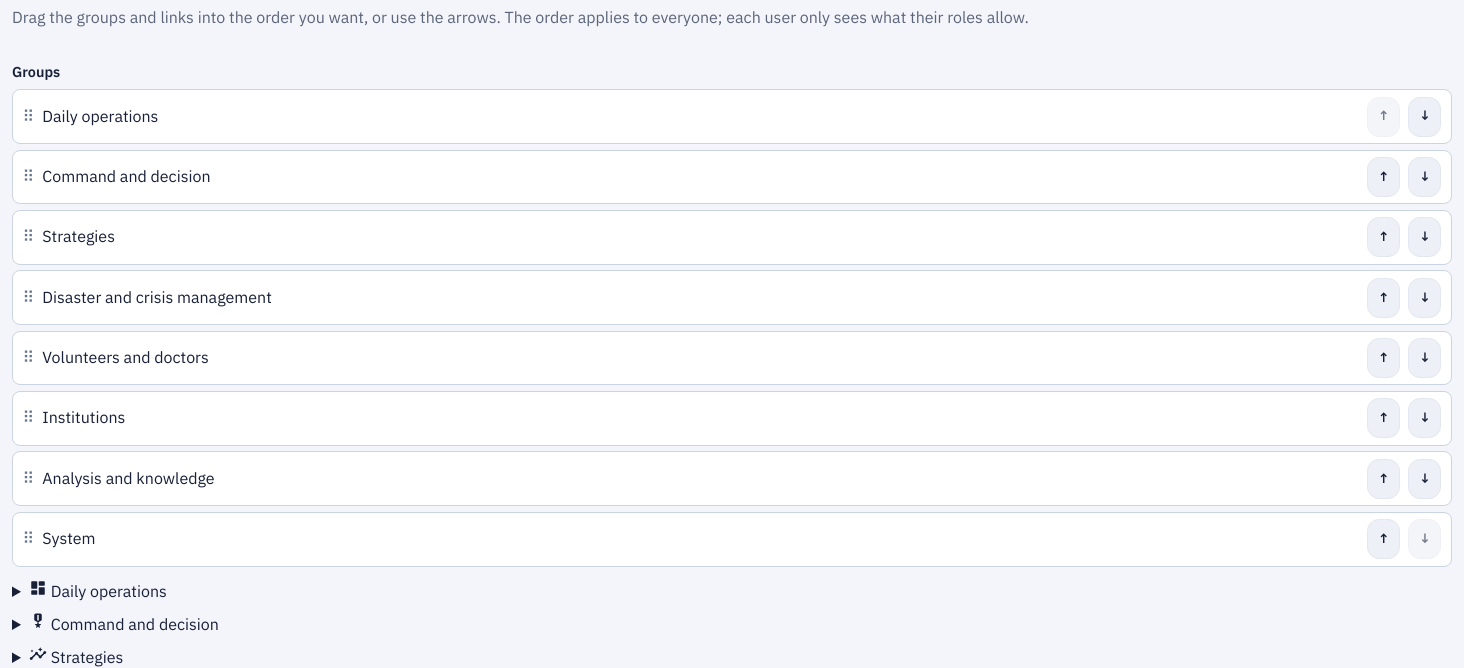
Test: the order of the menu › the system administrator moves a group and saves the order with a reason
Click the 1st button "↓": x=1425, y=117 [1408,97,1441,137]
(page scrolled)
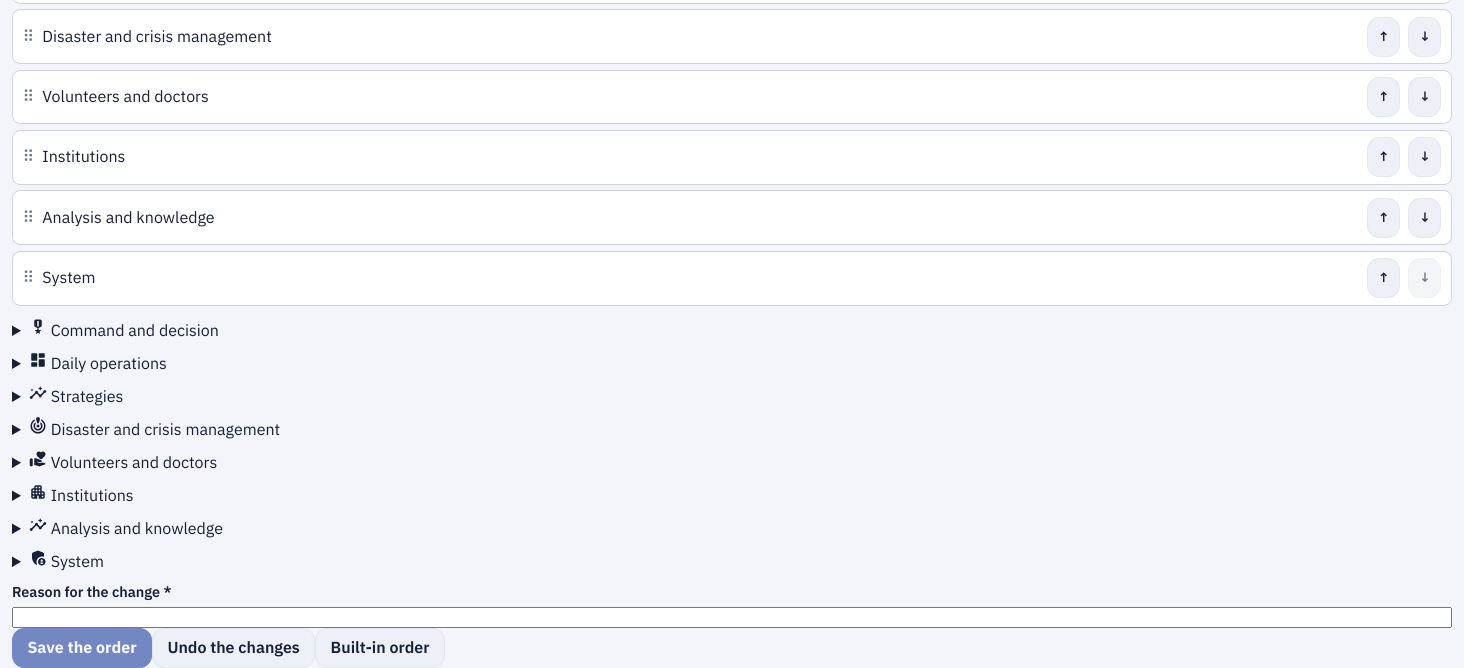
Expected: the button "Save the order" is disabled, [12,628,152,667]
In the field labelled "Reason for the change *": x=732, y=618 [12,607,1452,628], type "Order for the demonstration"
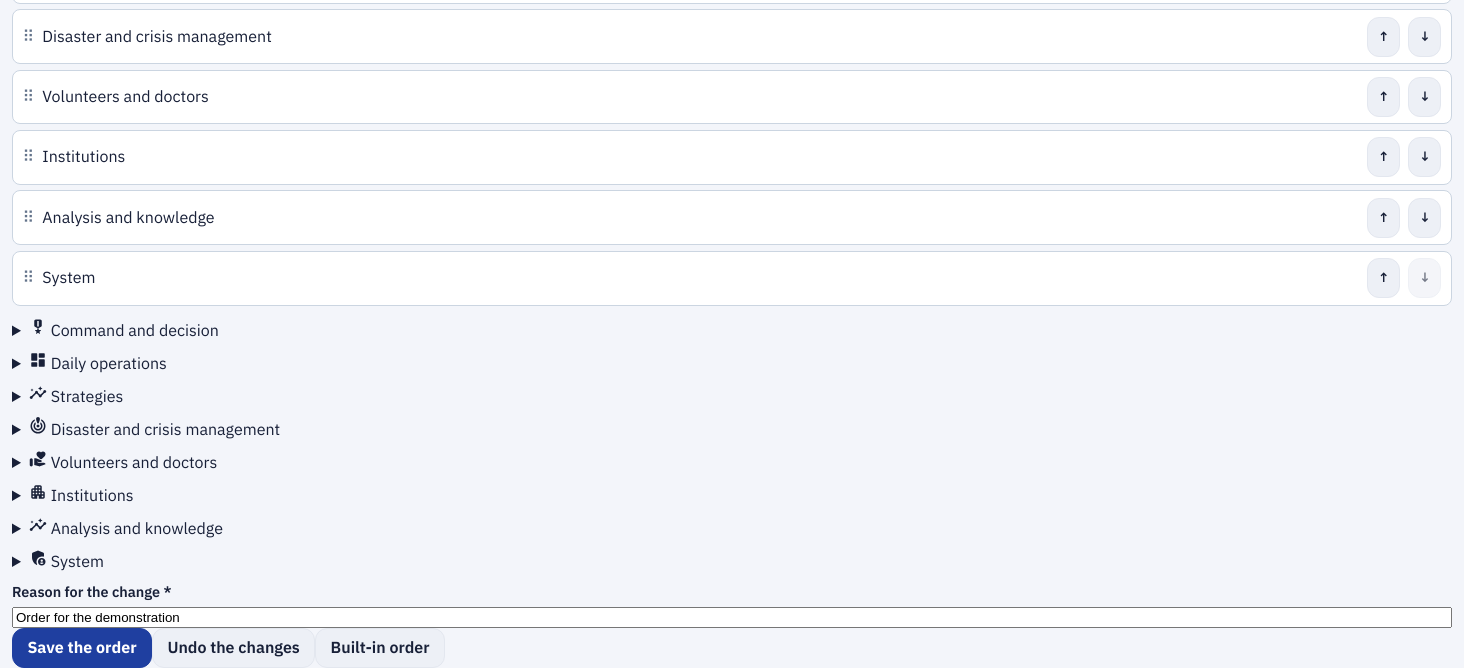
Click the button "Save the order": x=82, y=648 [12,628,152,667]
(page scrolled)
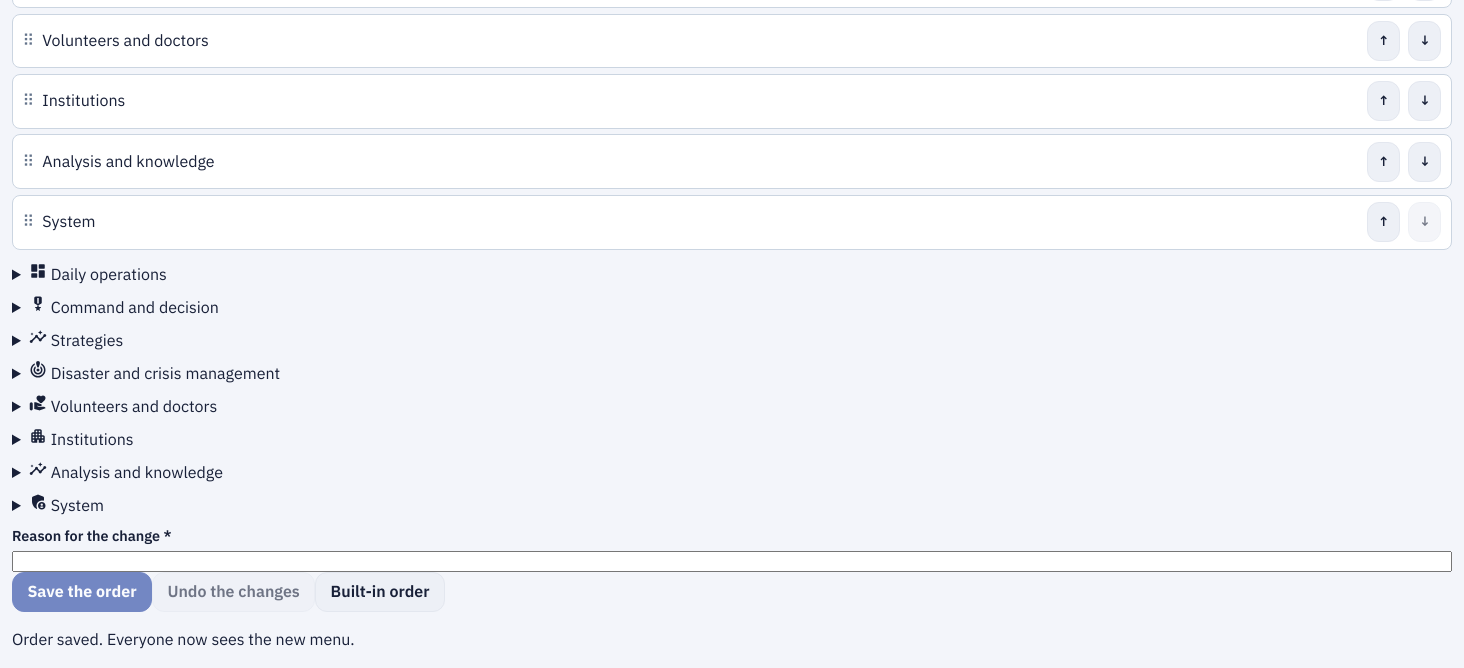
Expected: the text "Order saved. Everyone now sees the new menu." is shown, [12,628,355,652]
